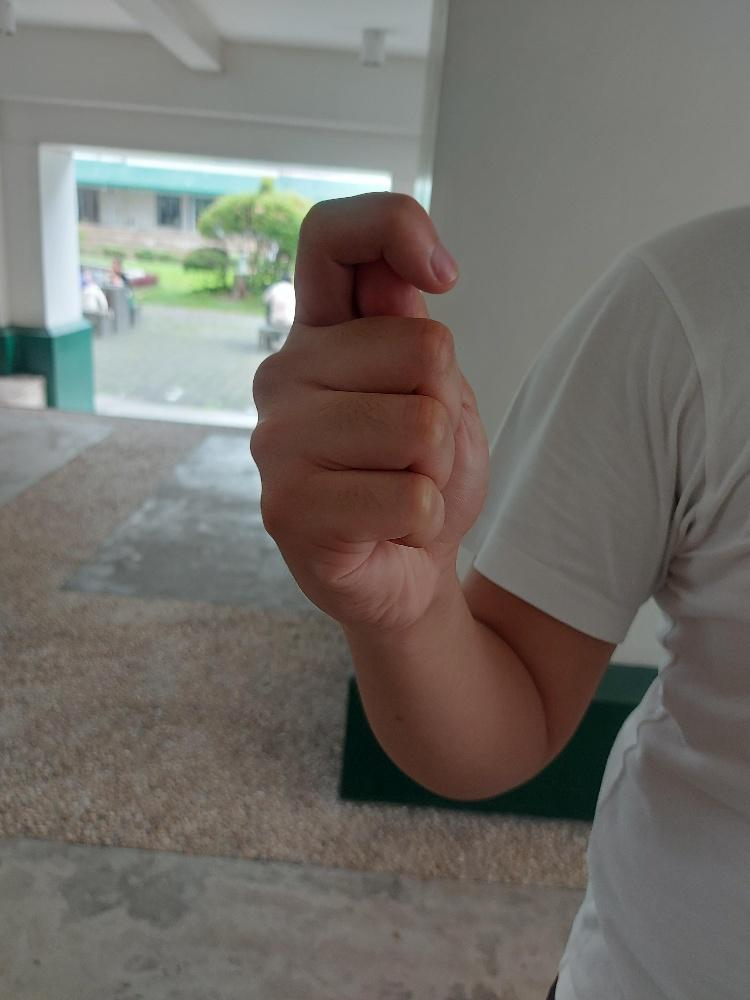t: (247, 187, 494, 626)
